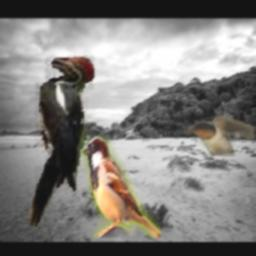Sparrow: (80, 136, 161, 239)
Swallow: (189, 116, 256, 157)
Woodpecker: (30, 56, 95, 228)
